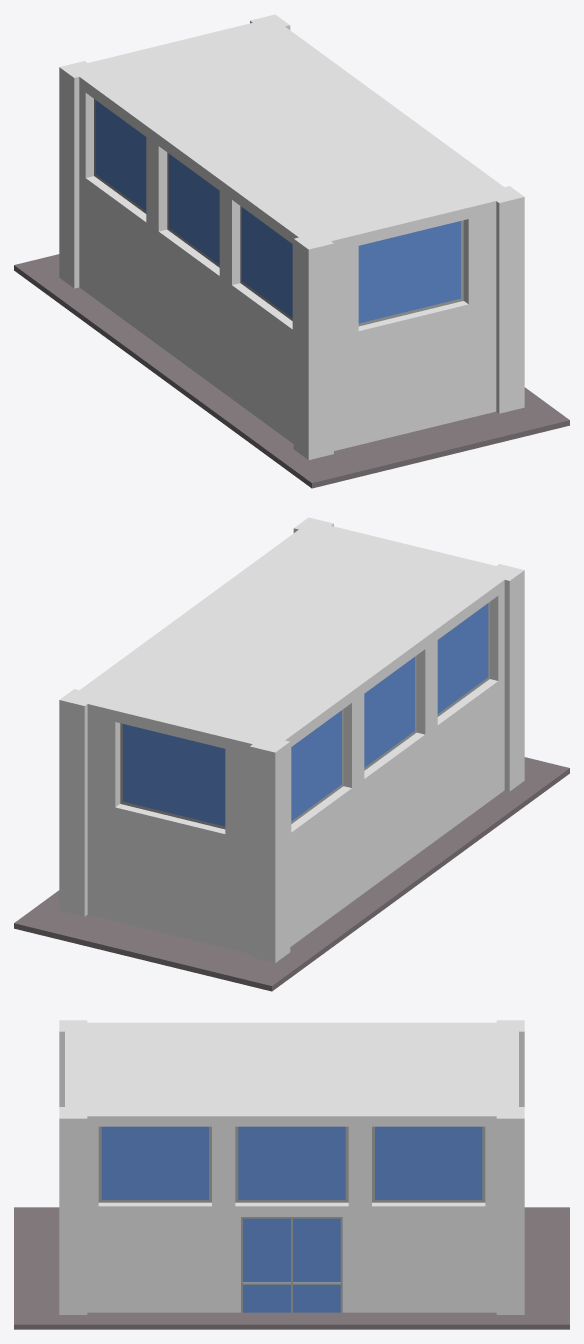
Rendered from building_1x2_7_g.glb.
The picture shows the model from 3 angles, top to bottom: view 1: azimuth 30°, elevation 25°; view 2: azimuth 150°, elevation 25°; view 3: azimuth 270°, elevation 25°; orthographic projection. The views are drawn at different scales.
Visible parts, largest first — view 1: FirstFloor; view 2: FirstFloor; view 3: FirstFloor.
Part boxes in pixels (x1=…): FirstFloor: x1=14, y1=14, x2=569, y2=488; FirstFloor: x1=14, y1=517, x2=569, y2=991; FirstFloor: x1=14, y1=1020, x2=569, y2=1329.
Bounding box in the file's own units: 2 × 1.6 × 4.
